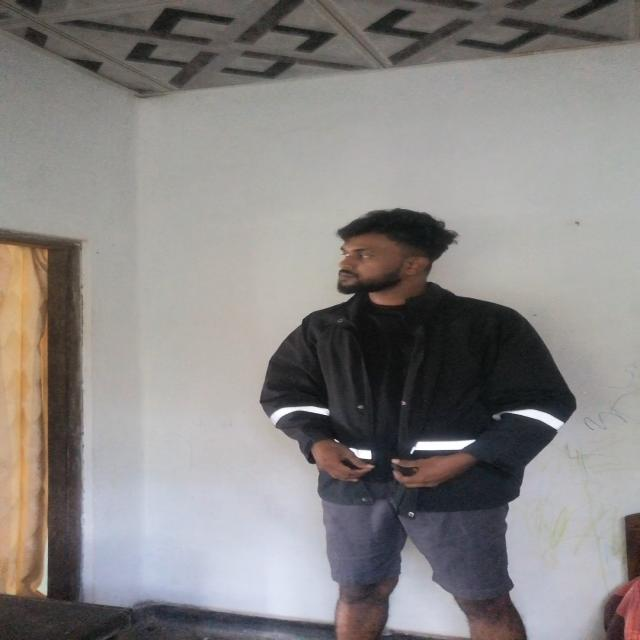Jacket_Wearer: (255, 286, 583, 504)
